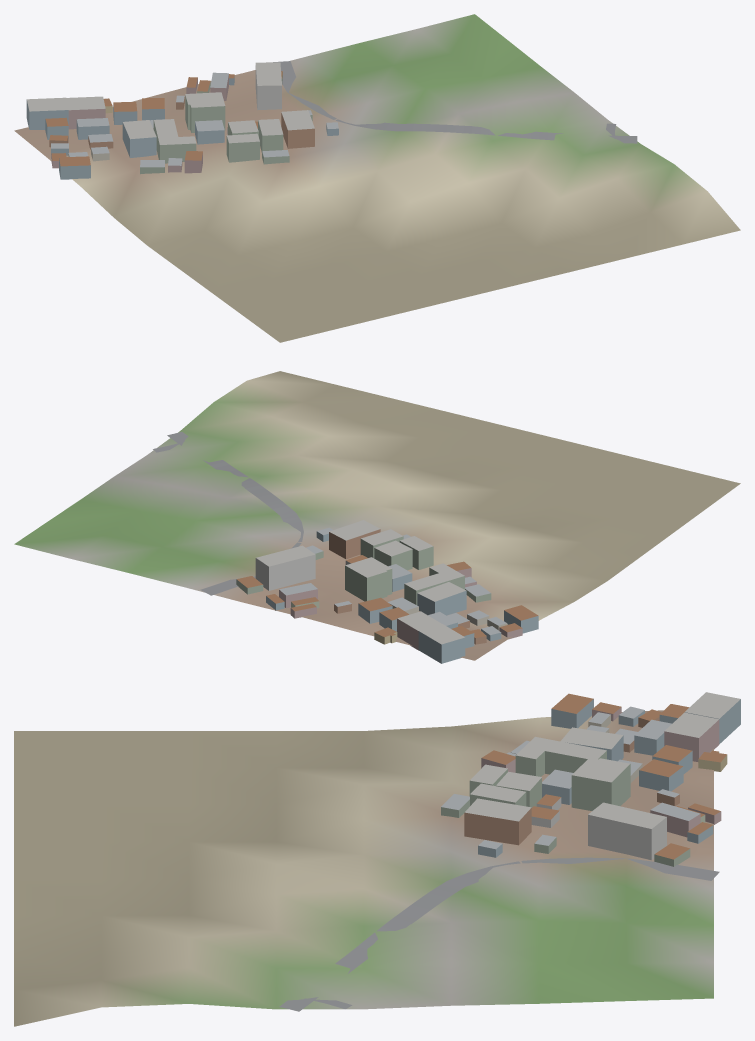
3 views of the same model, one above another, from view 1: azimuth 30°, elevation 25°; view 2: azimuth 150°, elevation 25°; view 3: azimuth 270°, elevation 25° (orthographic). The views are drawn at different scales.
Parts seen in each view (by area): view 1: Lo; view 2: Lo; view 3: Lo.
Boxes of the visible parts, bbox=[...] form: Lo: bbox=[14, 14, 740, 342]; Lo: bbox=[14, 371, 740, 663]; Lo: bbox=[14, 692, 740, 1026].
Size of the model in its own units: 263 by 23.29 by 266.
